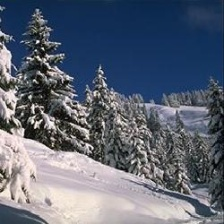neutral: (2, 4, 223, 221)
